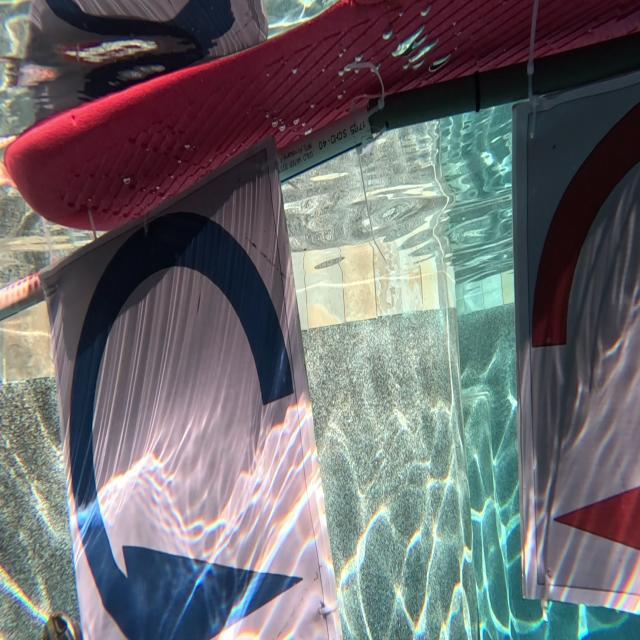blue_side: (71, 210, 323, 640)
red_side: (520, 101, 640, 590)
